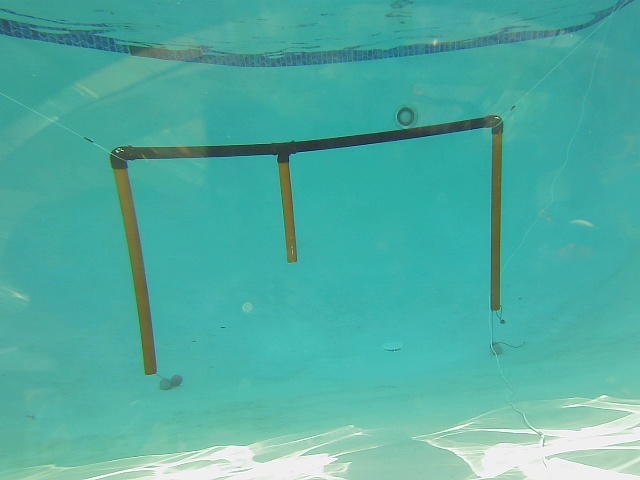Gate: (110, 162, 161, 378), (485, 125, 507, 315), (275, 154, 300, 263)
